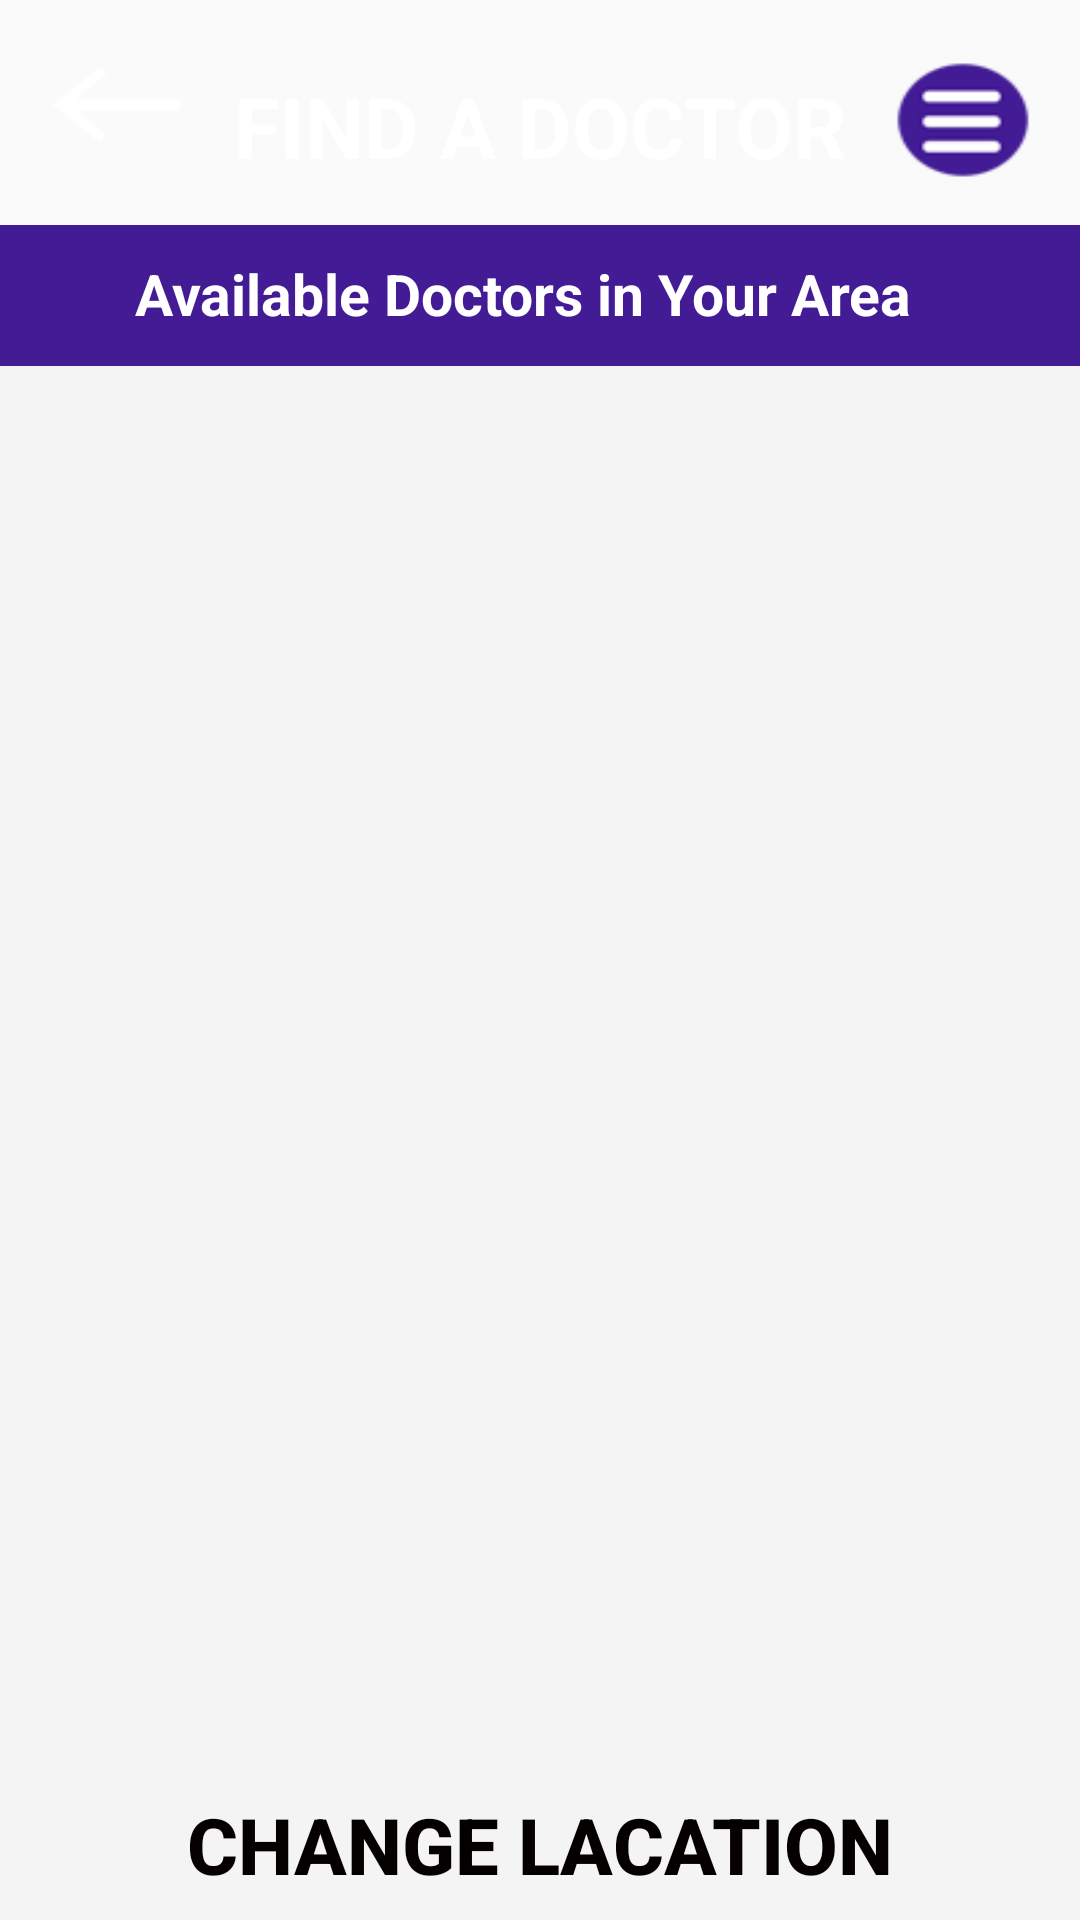

Screen size 1080px x 1920px. Icon name, then its center in pixels as [x,y]:
menu: [963,120]
